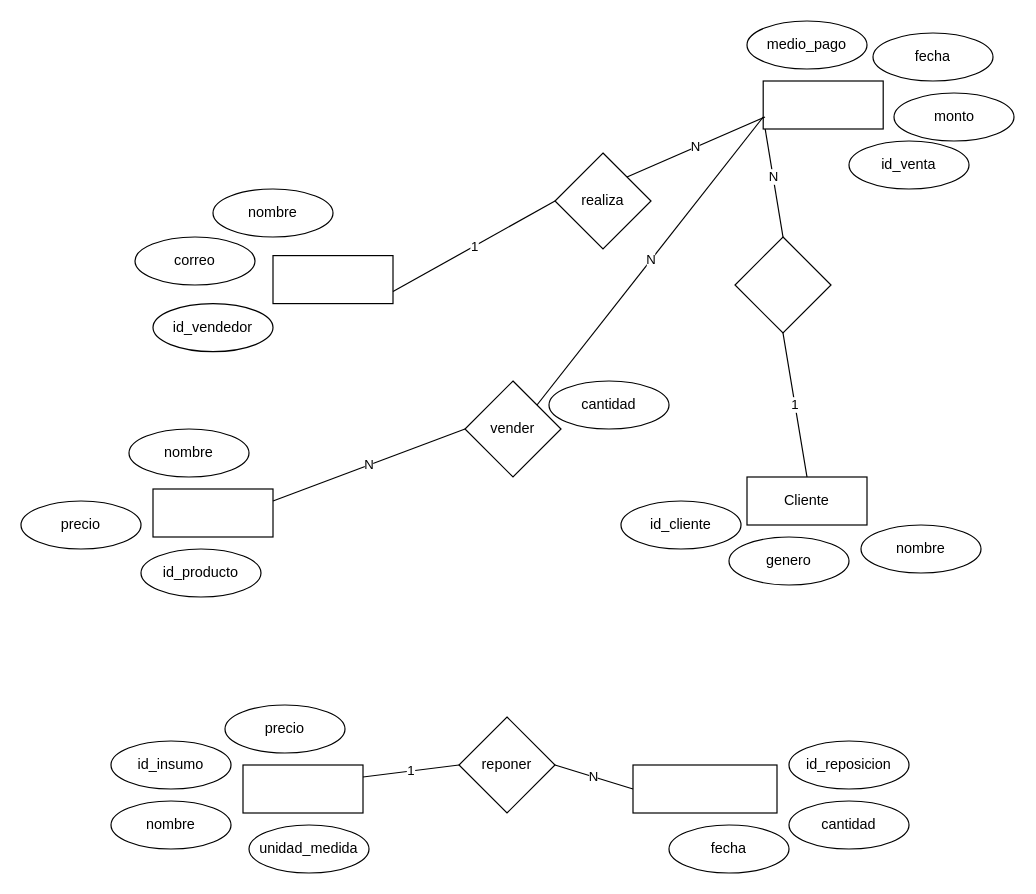
This 1036x894 diagram has some shape labels left out. Here are the shapes that lost their labels. From the top down, the box of each, then its label:
(762, 80, 883, 129): Venta
(272, 254, 393, 304): Vendedor
(734, 236, 831, 333): comprar
(152, 488, 273, 537): Producto
(242, 764, 363, 813): Insumo
(632, 764, 777, 813): Reposicion_Insumo
